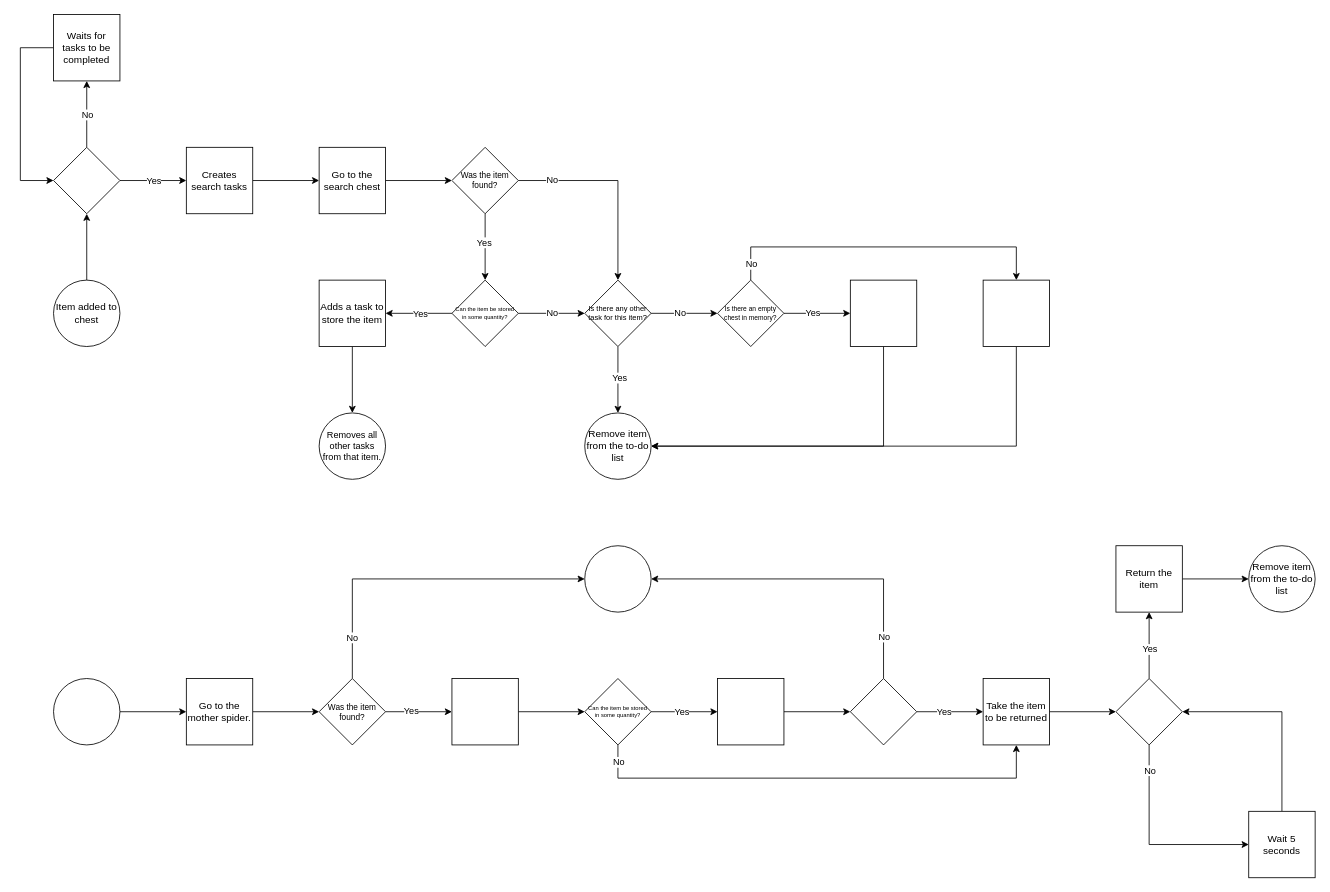
Image size: 1330x892. Some labels were removed from this diagram. Each missing label, with the box of its shape:
Added task to store item: (53, 678, 120, 745)
Adds a task to store the item in the nearest chest that isn't full.: (982, 279, 1050, 347)
Adds a task to store the item in the nearest empty chest.: (850, 279, 917, 347)
Are there any items left?: (850, 678, 917, 745)
Is it possible to return the item completely?: (1115, 678, 1182, 745)
Is the task list empty?: (53, 146, 120, 214)
Remove the Store task: (584, 545, 651, 612)
Save whatever is possible: (717, 678, 784, 745)
Take as much of the item as possible and carry it to the chest: (451, 678, 518, 745)
